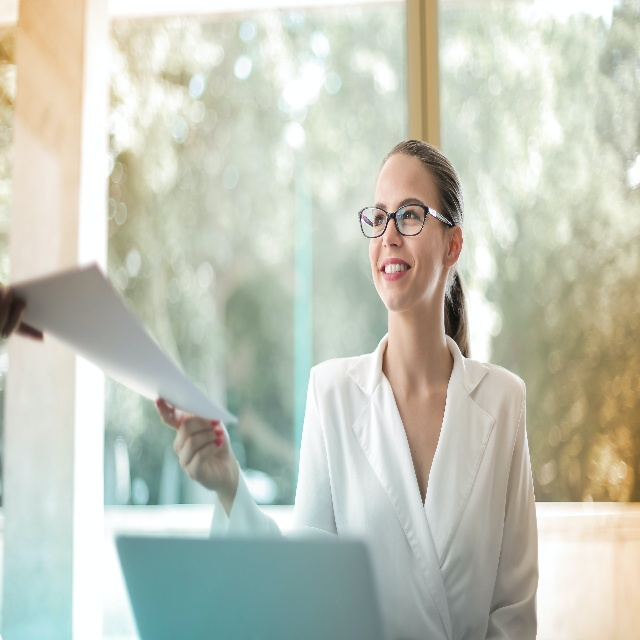Gafas: (357, 202, 452, 237)
Sin_guantes: (155, 396, 233, 494), (0, 286, 45, 342)
